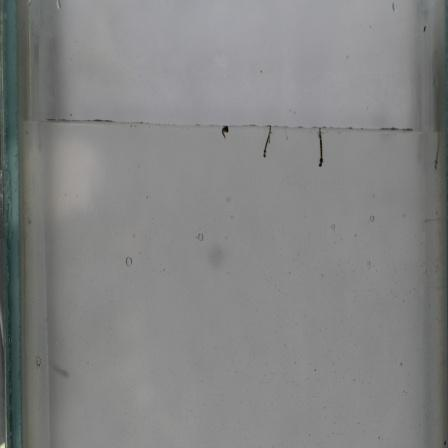Jentik-Nyamuk: (259, 125, 277, 160), (315, 130, 328, 171), (218, 122, 233, 140)
